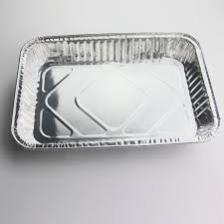metal: (14, 24, 219, 159)
